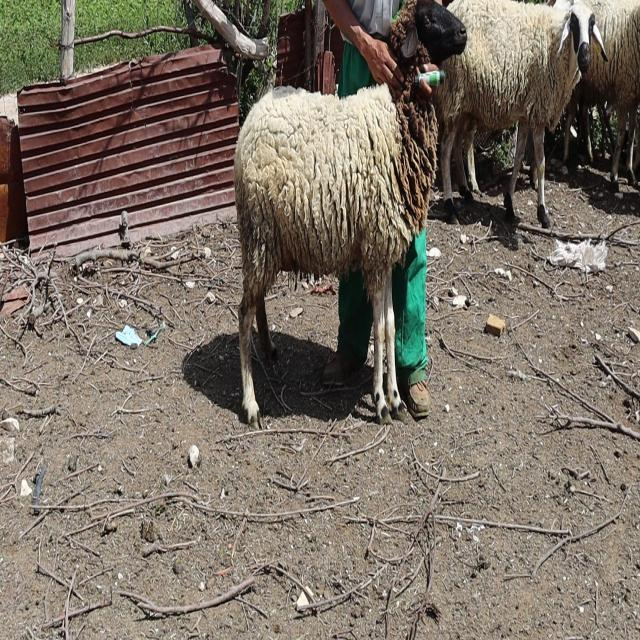Score_3: (234, 0, 467, 428)
